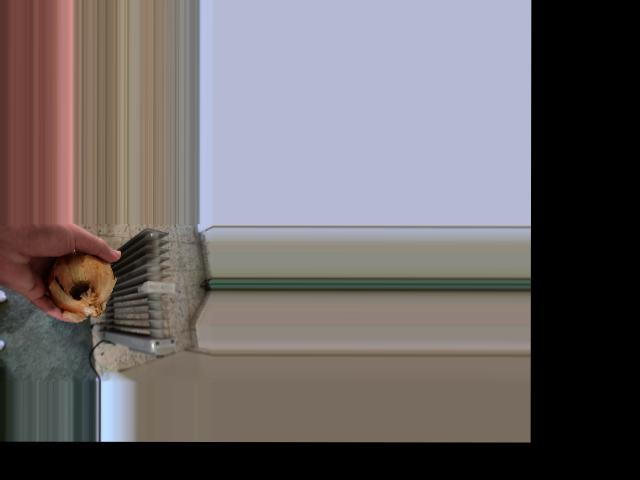onion: (34, 249, 116, 313)
